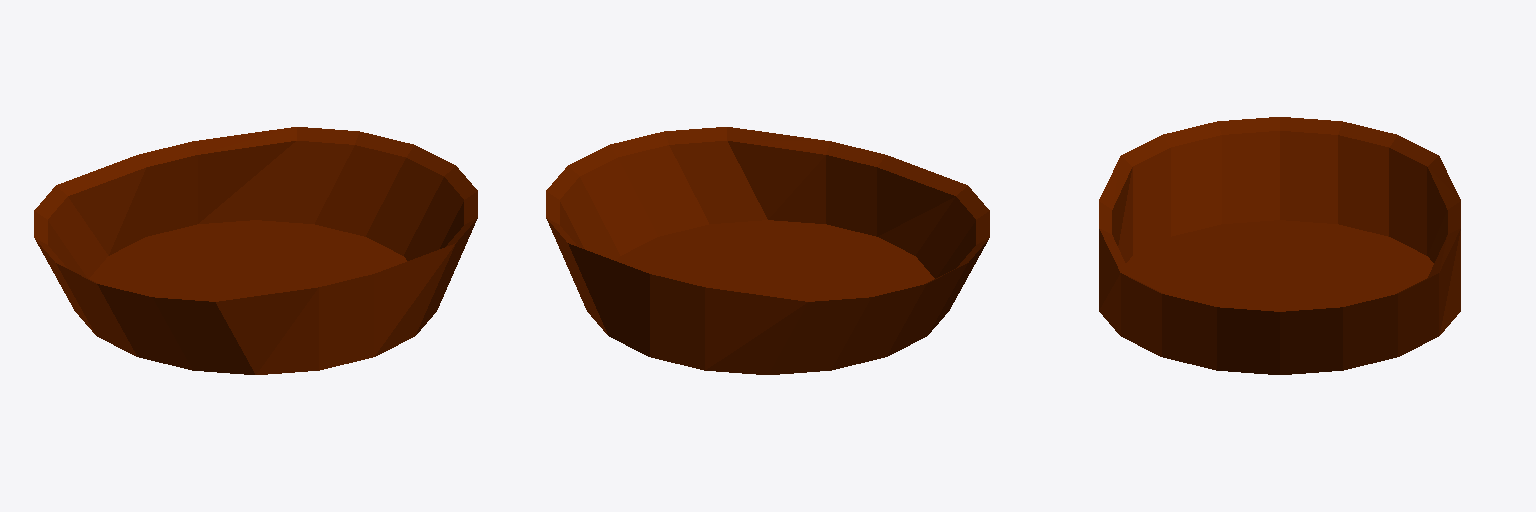
Rendered from basket.obj.
3 renders of one model, left to right at view 1: azimuth 30°, elevation 25°; view 2: azimuth 150°, elevation 25°; view 3: azimuth 270°, elevation 25°, orthographic.
Parts seen in each view (by area): view 1: Cylinder001; view 2: Cylinder001; view 3: Cylinder001.
Boxes of the visible parts, x1,y1,x2,y2 form: Cylinder001: [34, 127, 477, 374]; Cylinder001: [546, 127, 989, 374]; Cylinder001: [1099, 117, 1460, 374].
Bounding box in the file's own units: 25.12 × 5 × 19.7.